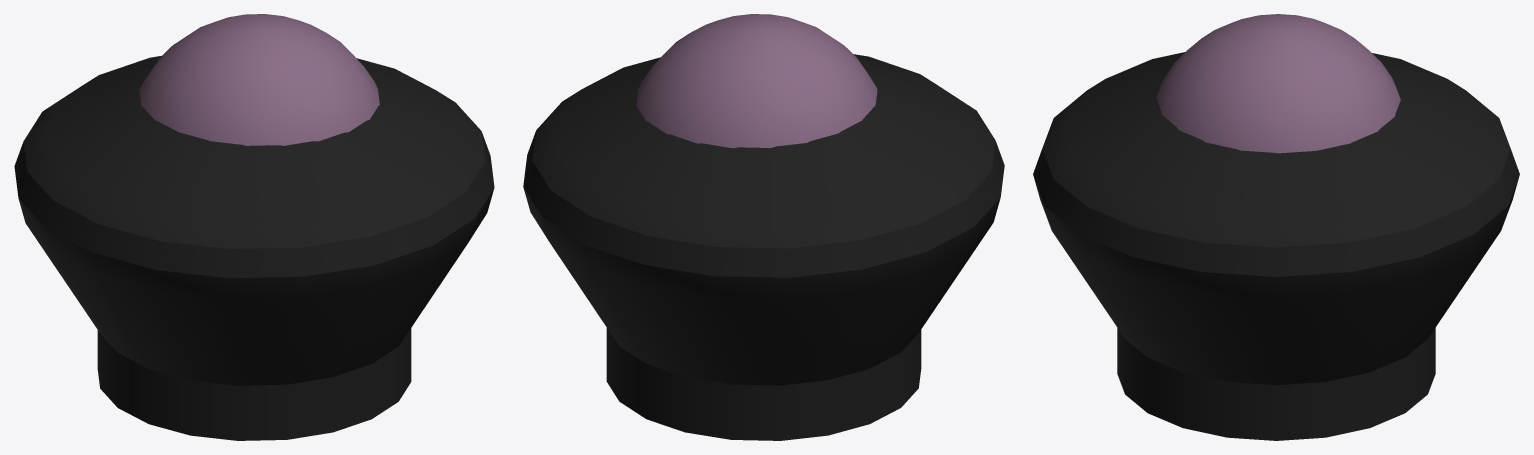
The model's file is Galaxy_Light.fbx.
The picture shows the model from 3 angles, left to right: view 1: azimuth 30°, elevation 25°; view 2: azimuth 150°, elevation 25°; view 3: azimuth 270°, elevation 25°; orthographic projection.
Parts seen in each view (by area): view 1: polySurface398; view 2: polySurface398; view 3: polySurface398.
Boxes of the visible parts, <box> form: polySurface398: <box>14,14,494,440</box>; polySurface398: <box>523,14,1004,440</box>; polySurface398: <box>1033,14,1519,440</box>.
Bounding box in the file's own units: 0.1233 × 0.0977 × 0.1233.
